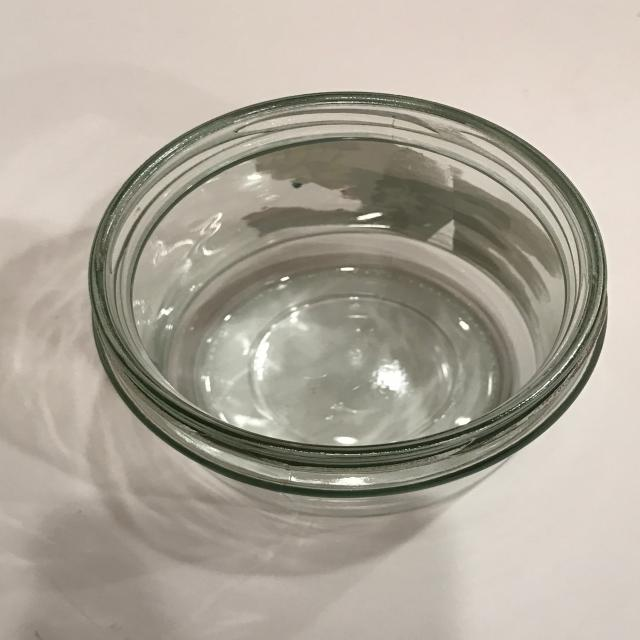Glass: (69, 78, 618, 593)
